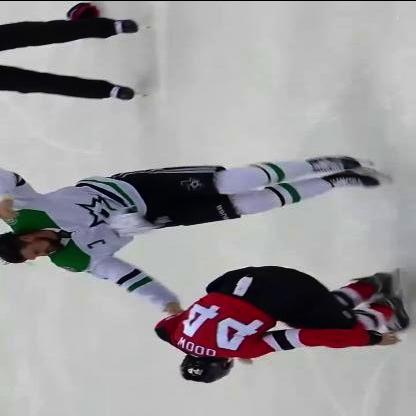voilence: (0, 154, 415, 386)
